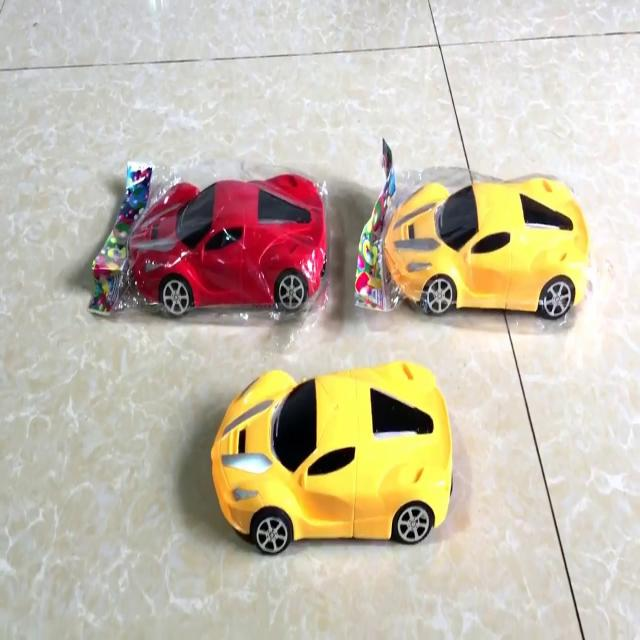Car: (210, 359, 453, 556), (382, 173, 590, 320), (128, 171, 328, 317)
